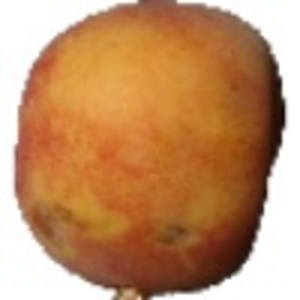pêssego: (11, 1, 287, 300)
